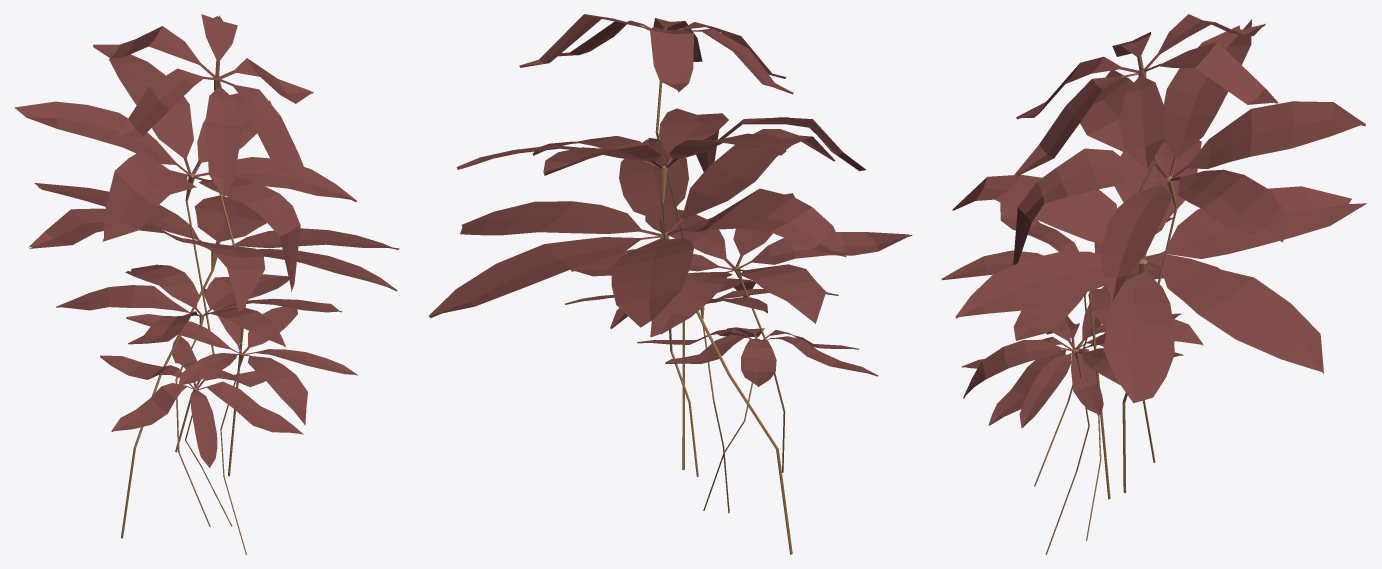
File: flower_3.glb
3 renders of one model, left to right at view 1: azimuth 30°, elevation 25°; view 2: azimuth 150°, elevation 25°; view 3: azimuth 270°, elevation 25°, orthographic. The views are drawn at different scales.
Parts seen in each view (by area): view 1: Flower03Plant; view 2: Flower03Plant; view 3: Flower03Plant.
Part boxes in pixels (x1,y1,x2,y2): Flower03Plant: (14,14,399,554); Flower03Plant: (429,14,912,554); Flower03Plant: (941,14,1366,554).
Bounding box in the file's own units: 0.7465 × 0.9604 × 0.7002.
